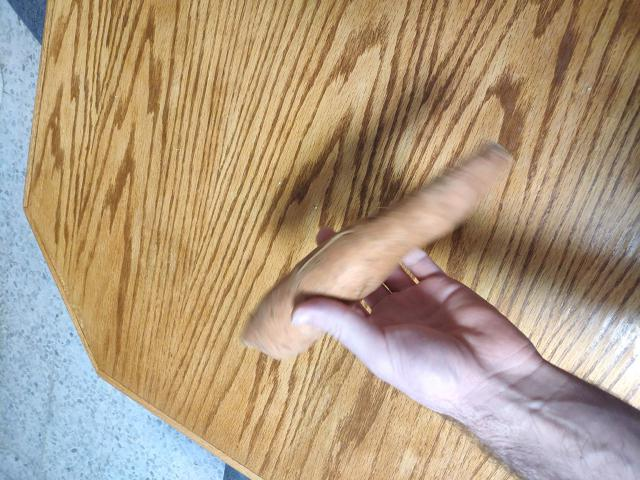sweet_potato: (265, 151, 508, 363)
